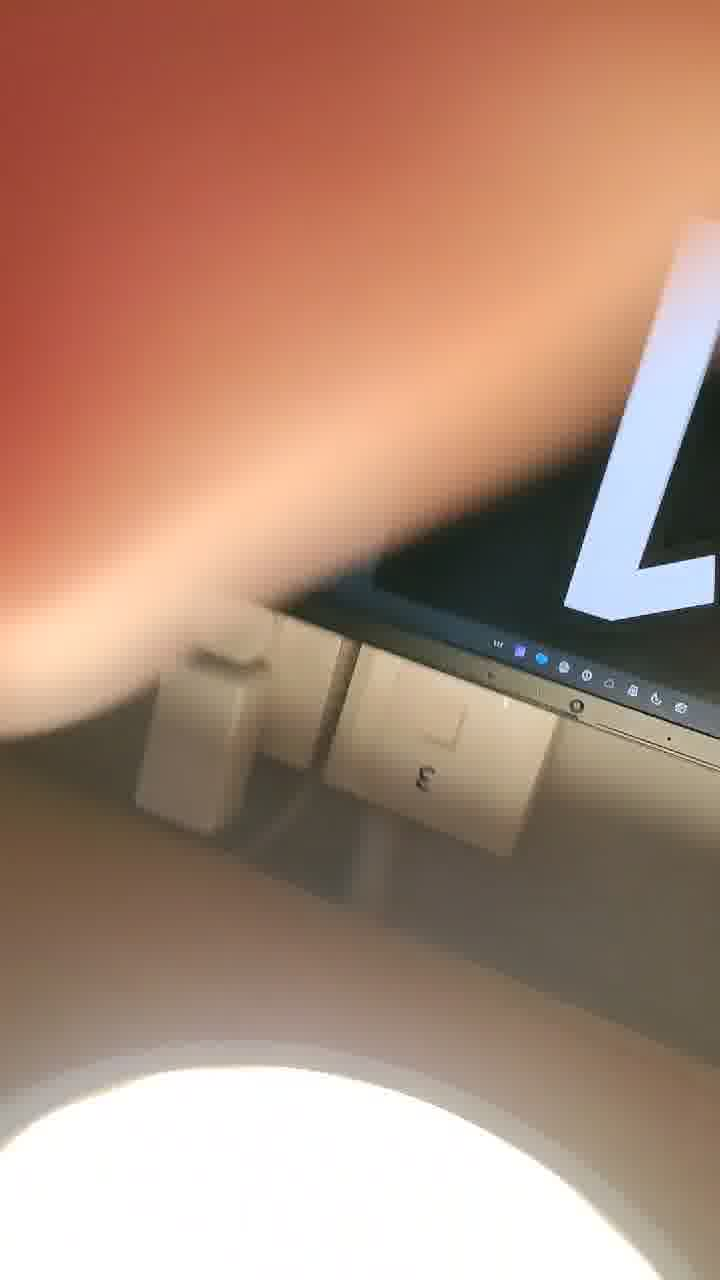one: (518, 154, 720, 675)
